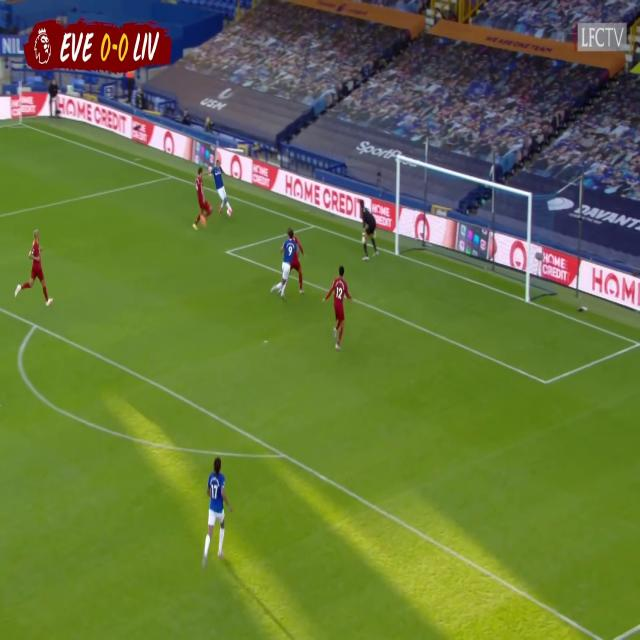Ball: (225, 205, 234, 218)
GoalKeeper: (360, 200, 380, 260)
TEAM 1: (269, 227, 297, 300), (209, 159, 235, 220)
TEAM 2: (13, 232, 54, 305), (202, 459, 230, 563), (322, 264, 355, 352), (195, 162, 212, 228), (291, 225, 305, 298)
